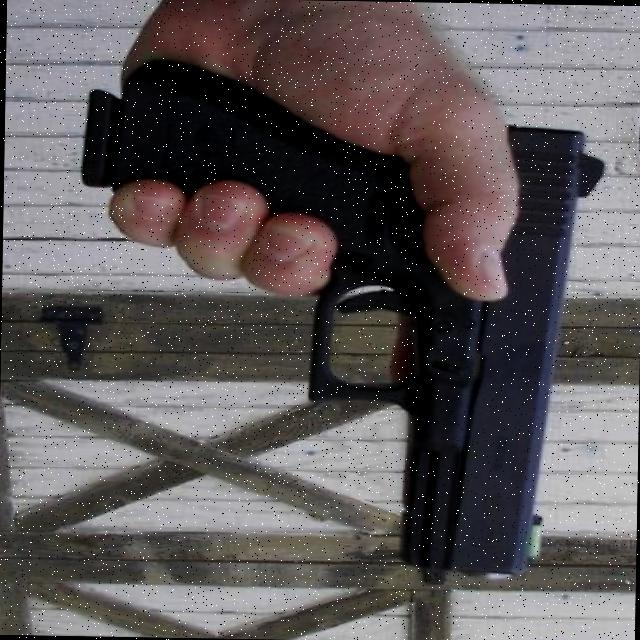pistol: (76, 60, 604, 579)
